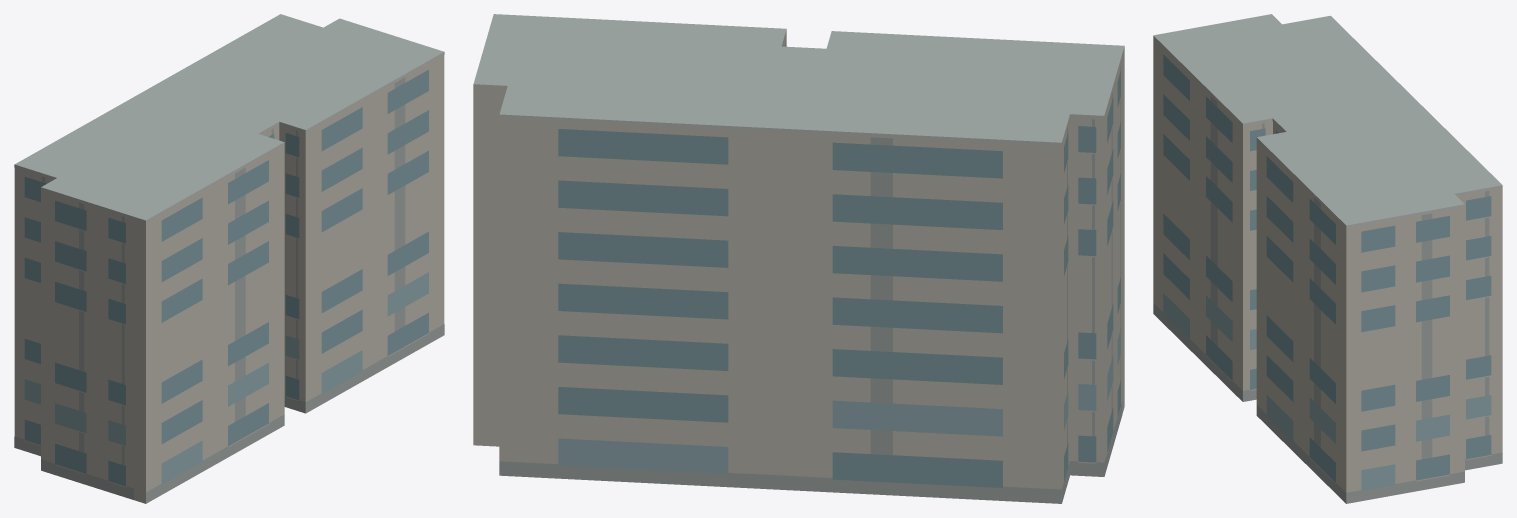
File: survey-upis-32859858.glb
The picture shows the model from 3 angles, left to right: view 1: azimuth 30°, elevation 25°; view 2: azimuth 150°, elevation 25°; view 3: azimuth 270°, elevation 25°; orthographic projection. The views are drawn at different scales.
Visible parts, largest first — view 1: survey-upis-32859858.tmp; view 2: survey-upis-32859858.tmp; view 3: survey-upis-32859858.tmp.
Part boxes in pixels (bbox=[...]): survey-upis-32859858.tmp: bbox=[14, 14, 444, 503]; survey-upis-32859858.tmp: bbox=[473, 14, 1124, 503]; survey-upis-32859858.tmp: bbox=[1153, 14, 1502, 503].
Bounding box in the file's own units: 34.39 × 21.1 × 24.02.
